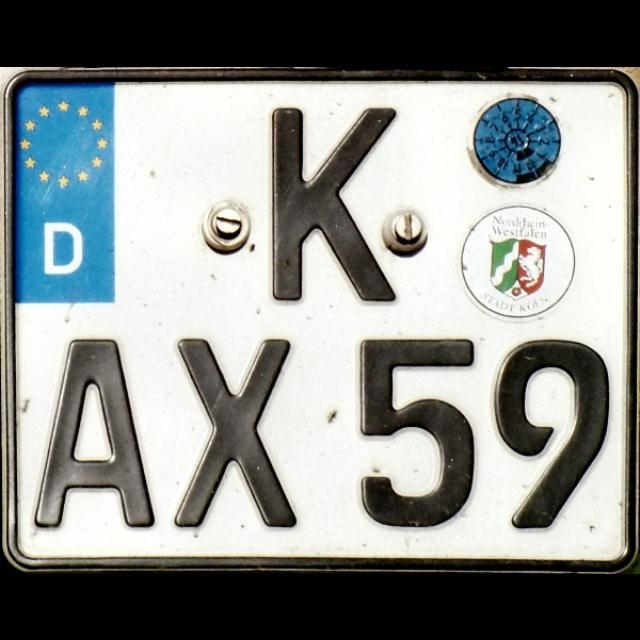license-plates: (0, 68, 640, 572)
